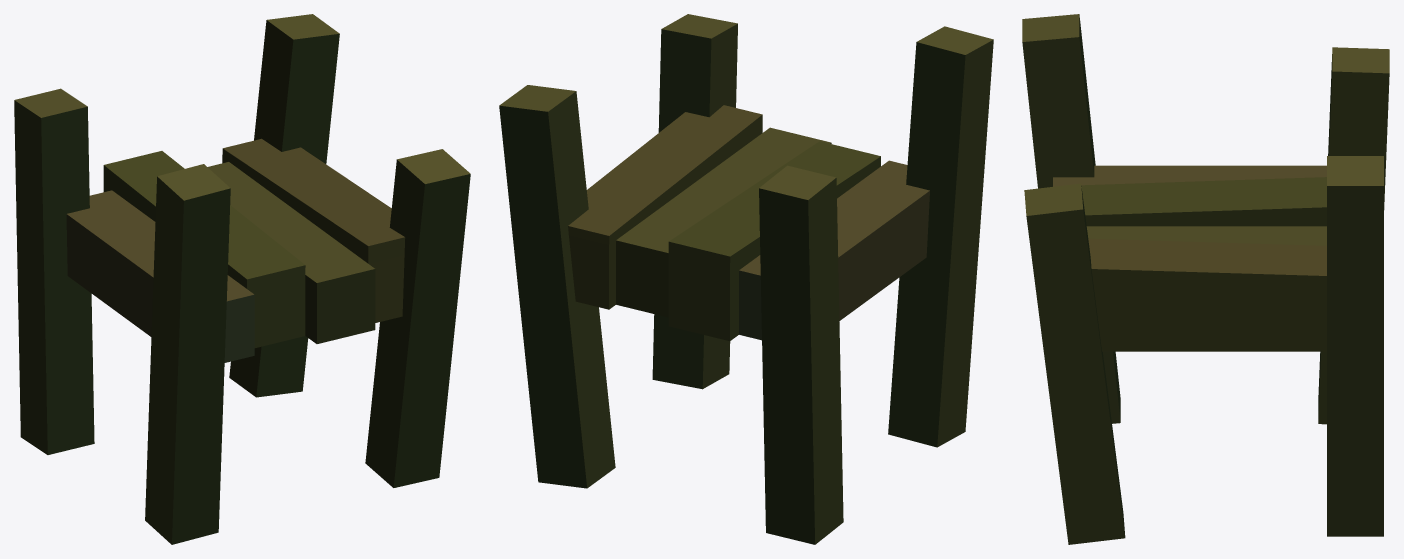
The model's file is SW_Bridge_01.FBX.
3 renders of one model, left to right at view 1: azimuth 30°, elevation 25°; view 2: azimuth 150°, elevation 25°; view 3: azimuth 270°, elevation 25°, orthographic. The views are drawn at different scales.
Parts seen in each view (by area): view 1: SW_Bridge_01; view 2: SW_Bridge_01; view 3: SW_Bridge_01.
Part boxes in pixels (left/top/right/bottom): SW_Bridge_01: left=14, top=14, right=470, bottom=544; SW_Bridge_01: left=499, top=14, right=993, bottom=544; SW_Bridge_01: left=1022, top=14, right=1389, bottom=544.
Size of the model in its own units: 128 by 150 by 128.
